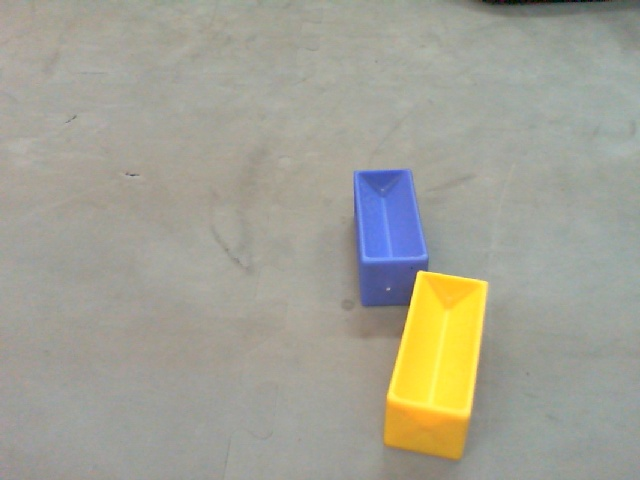BlueSample: (348, 166, 428, 306)
YellowSample: (381, 269, 490, 461)
